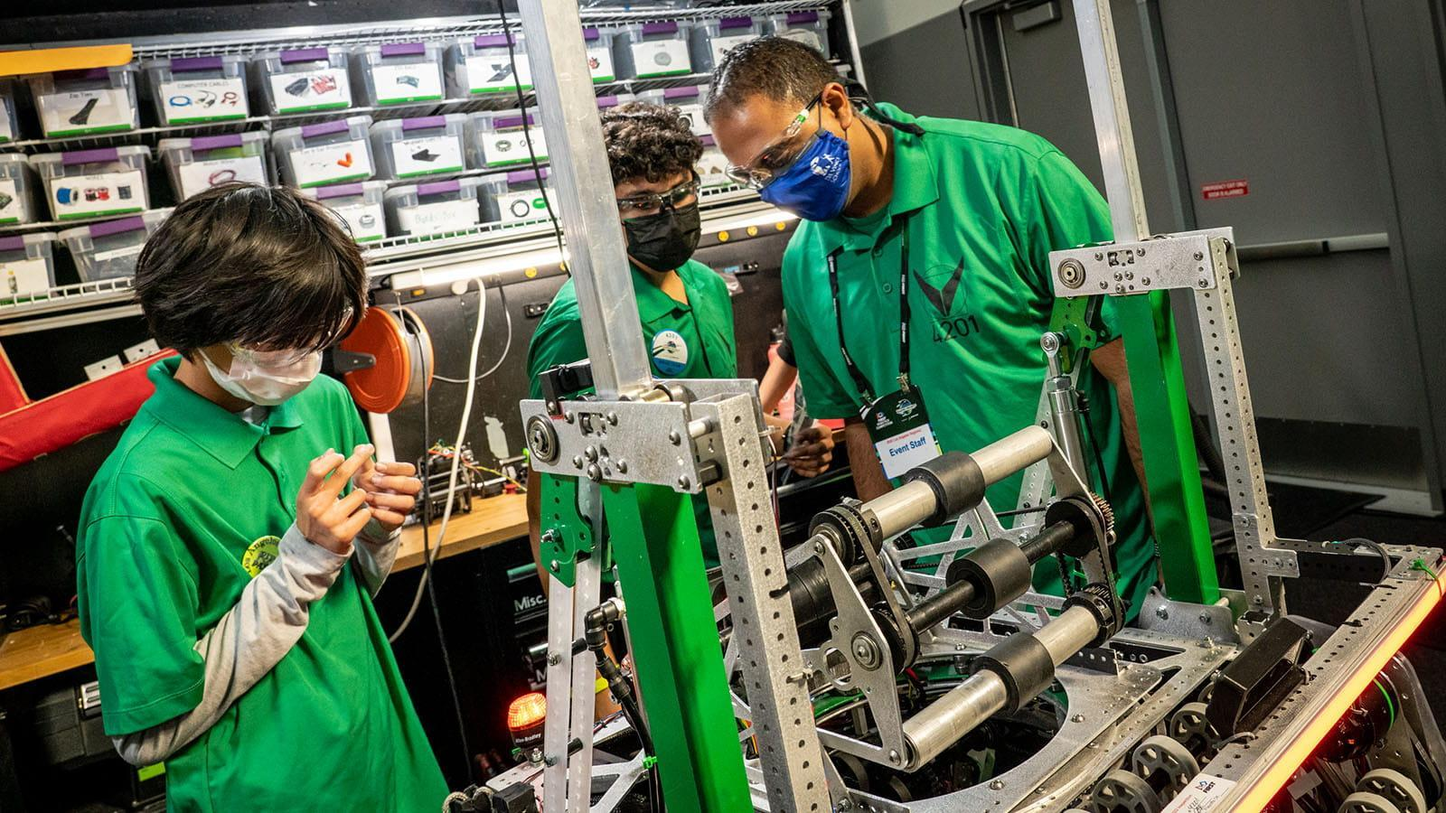robot: (455, 0, 1446, 813)
